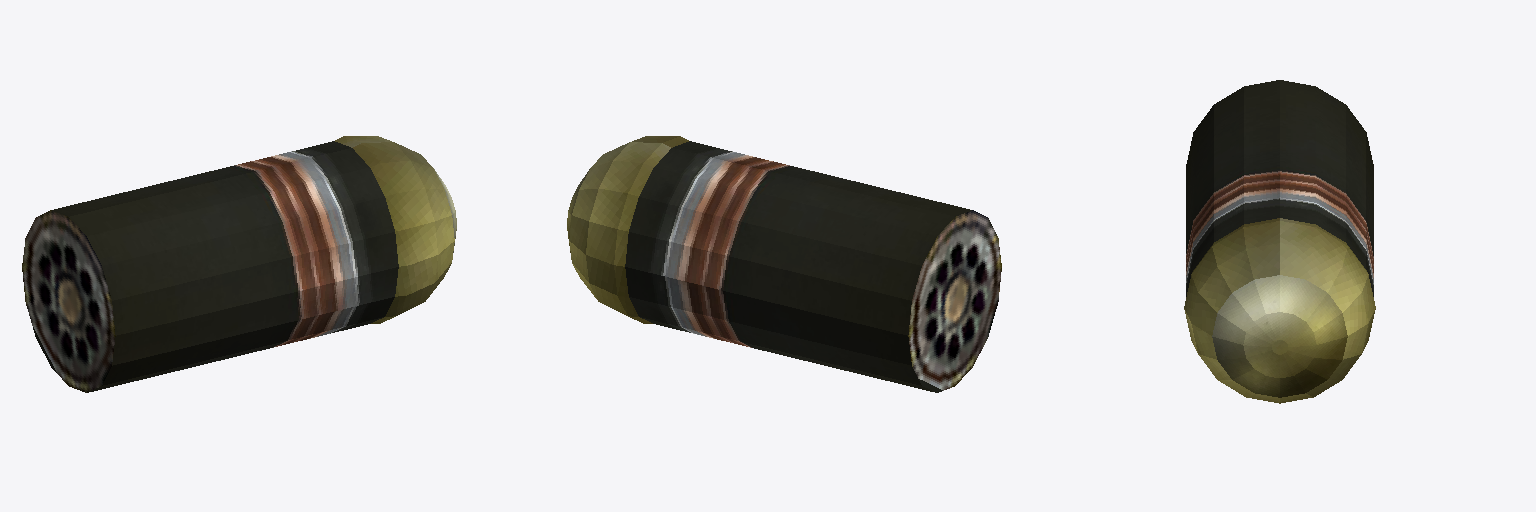
3 renders of one model, left to right at view 1: azimuth 30°, elevation 25°; view 2: azimuth 150°, elevation 25°; view 3: azimuth 270°, elevation 25°, orthographic.
Parts seen in each view (by area): view 1: Cylinder.001; view 2: Cylinder.001; view 3: Cylinder.001.
Part boxes in pixels (x1,y1,x2,y2): Cylinder.001: (22,136,456,392); Cylinder.001: (567,136,1001,392); Cylinder.001: (1184,80,1375,403).
Size of the model in its own units: 4.62 by 2.05 by 2.05.
Materials: 1 (1 with a texture image).